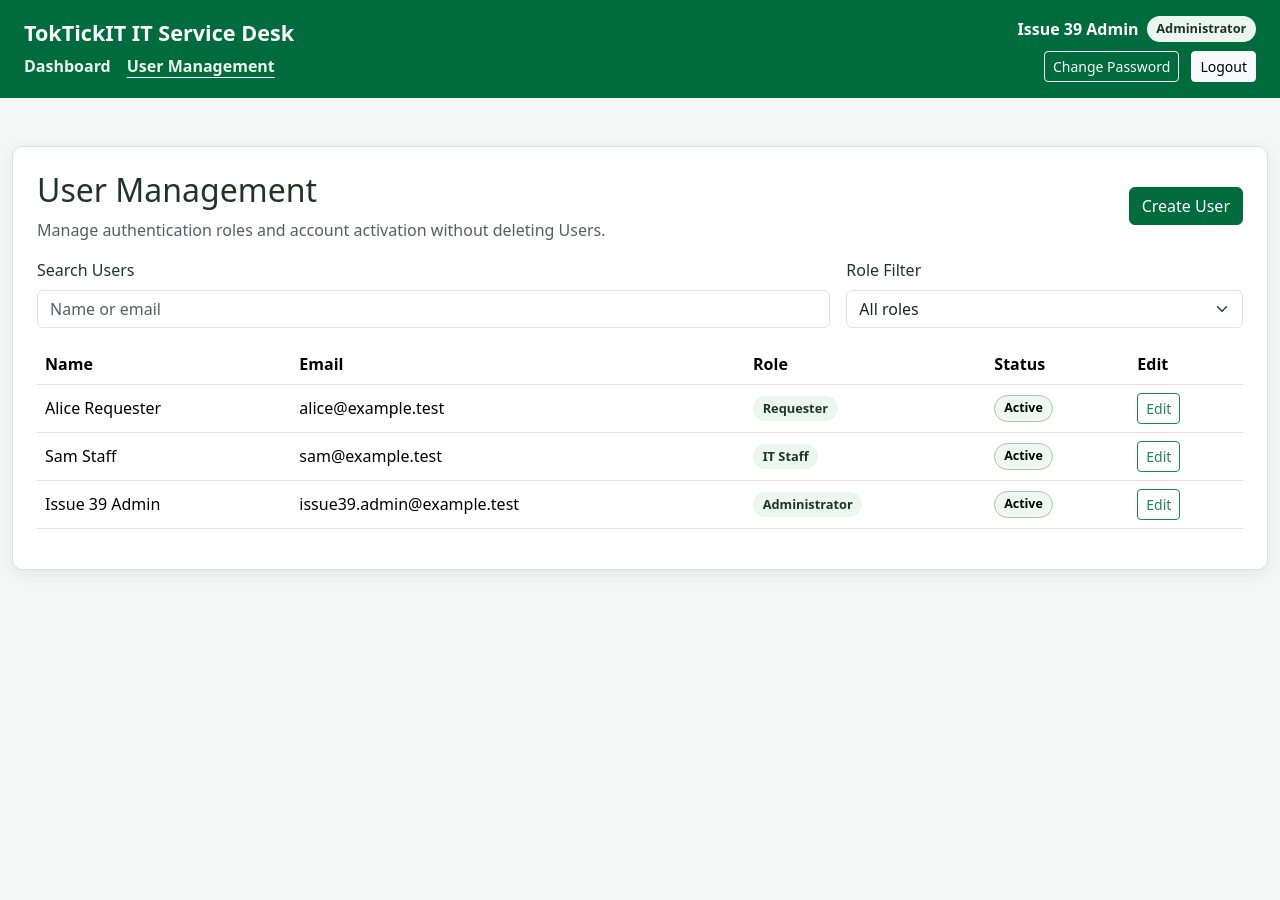
Scenario: Lab 3 Issue 7 Administrator User Management › UI-08 sends documented search/role queries and exposes create fields including exactly one role and initial password
Expected: the heading "User Management" is shown, x1=37 y1=168 x2=317 y2=211
Type "alice" into the field labelled "Search Users" at (434,308), box x1=37 y1=290 x2=830 y2=328
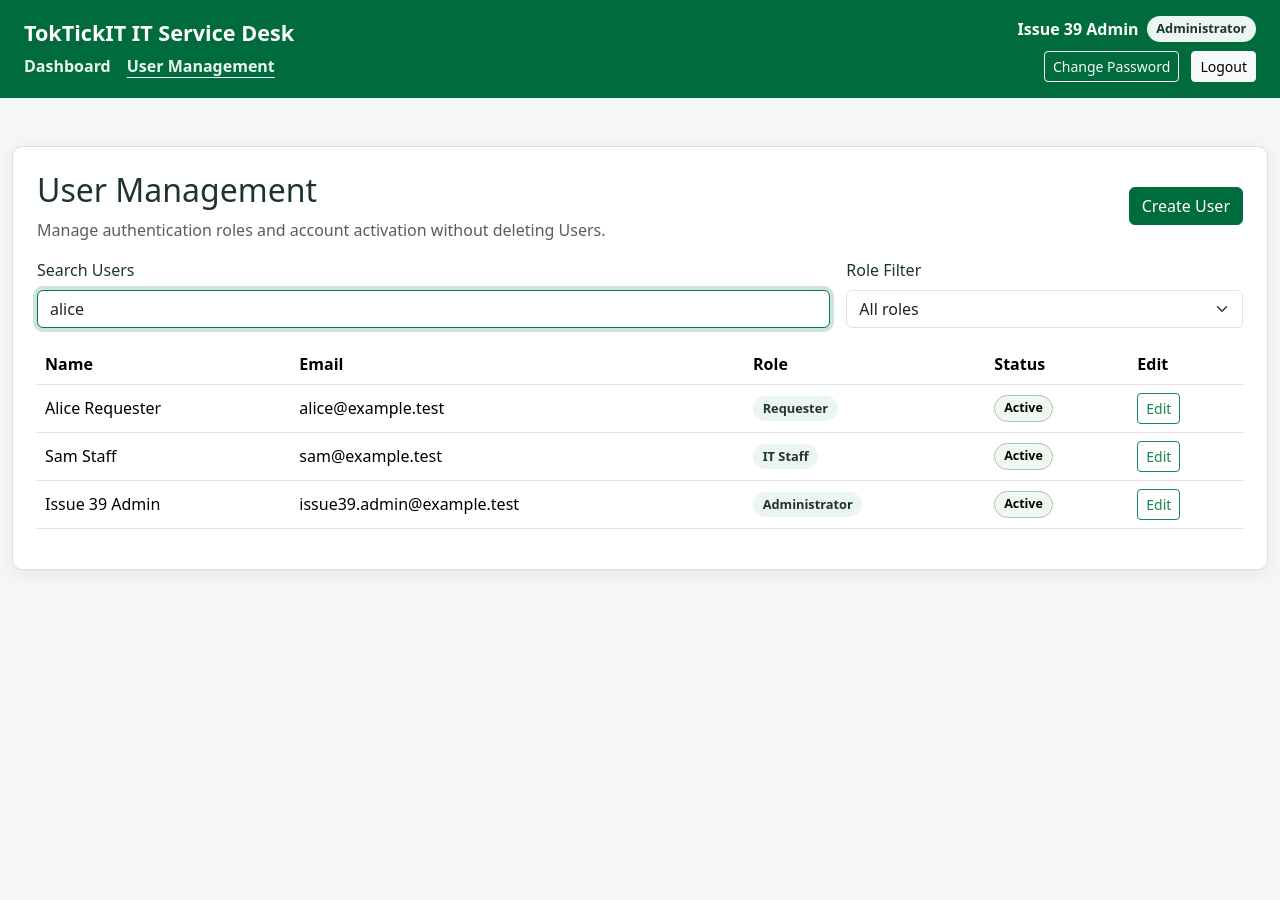
Select "Requester" in the dropdown labelled "Role Filter" at (1045,308), box x1=846 y1=290 x2=1243 y2=328
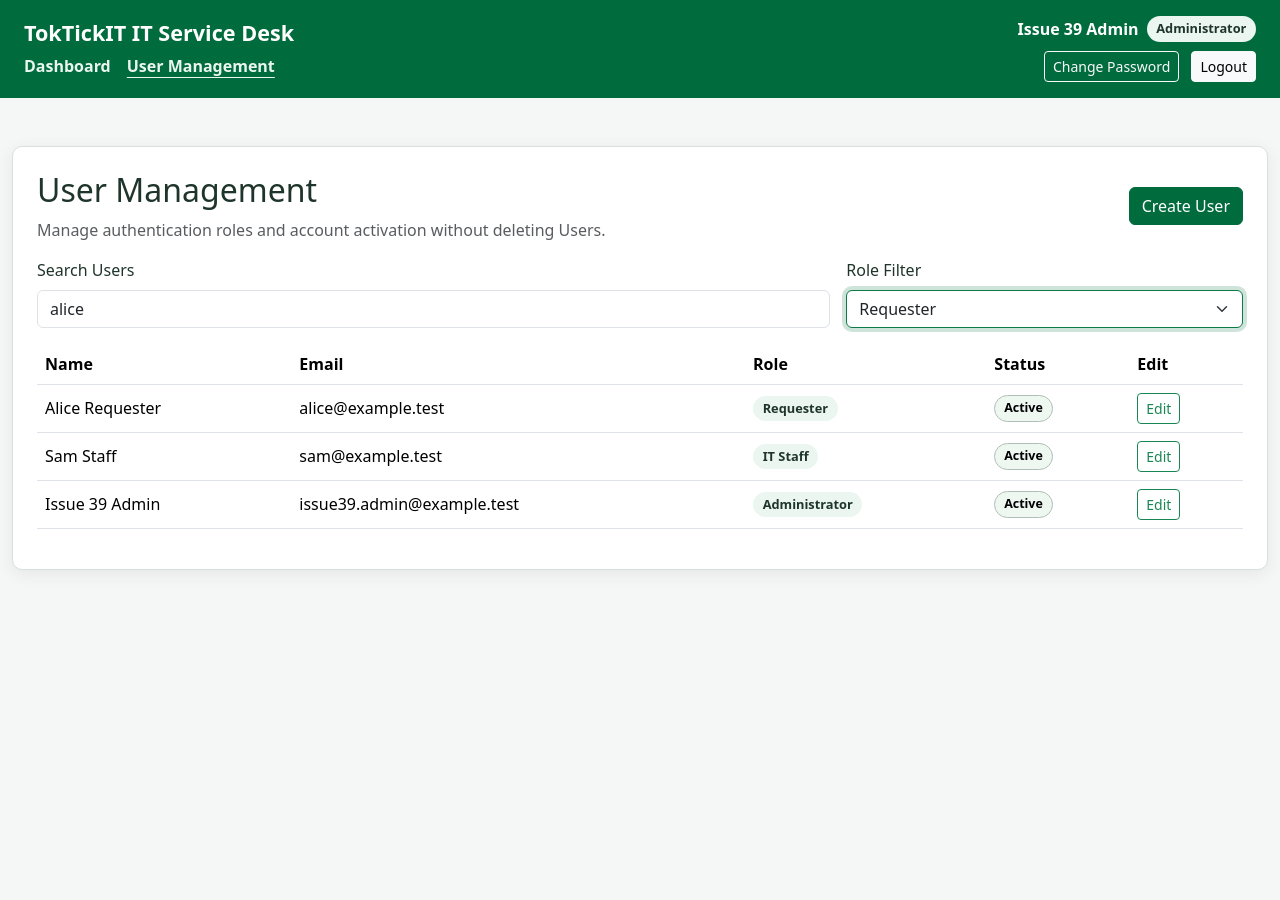
Click the button "Create User" at (1186,206), box x1=1129 y1=187 x2=1243 y2=225
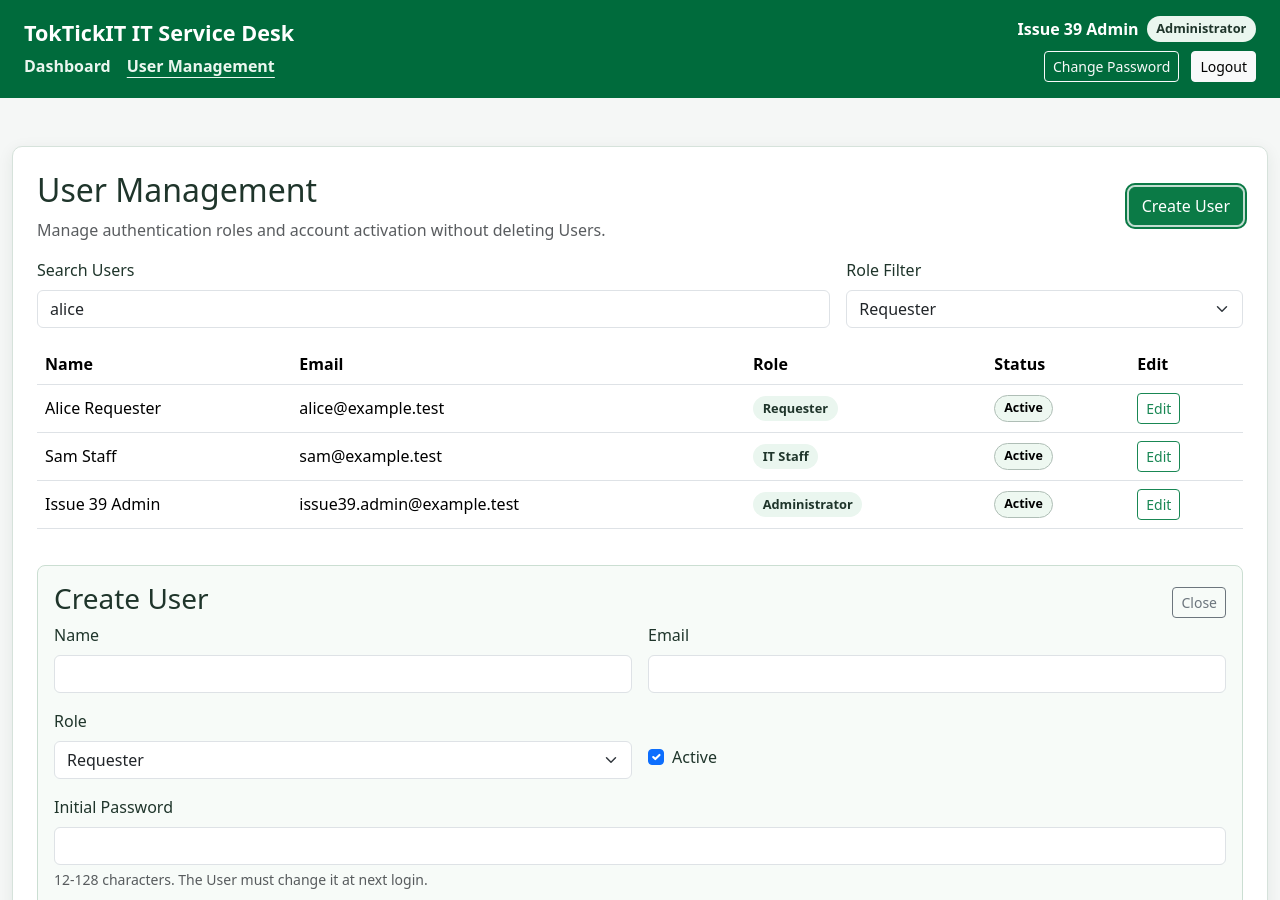
Expected: the field labelled "Name" is shown, x1=54 y1=655 x2=632 y2=693
Now the dropdown labelled "Role" is shown, box x1=54 y1=741 x2=632 y2=779
Now the checkbox labelled "Active" is shown, box x1=648 y1=749 x2=664 y2=765
